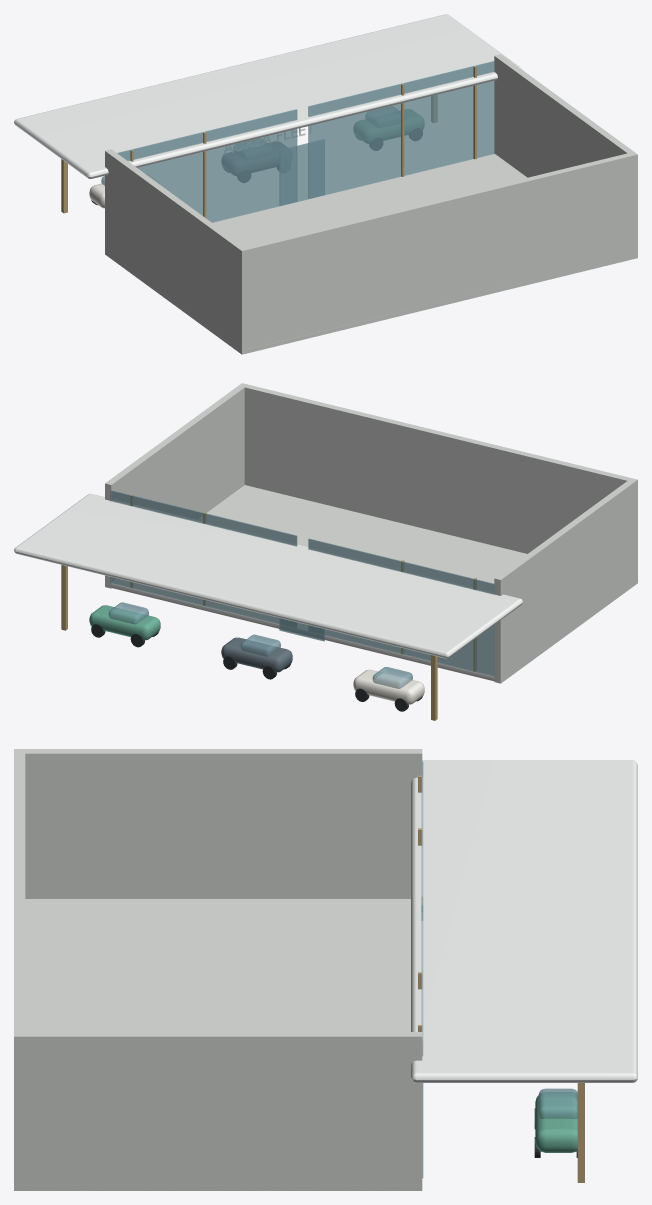
File: car-rental.glb
The picture shows the model from 3 angles, top to bottom: view 1: azimuth 30°, elevation 25°; view 2: azimuth 150°, elevation 25°; view 3: azimuth 270°, elevation 25°; orthographic projection. The views are drawn at different scales.
Parts seen in each view (by area): view 1: Solid rear structure, Angled rentable fleet canopy, Floor-to-ceiling showroom glass.001, Full-depth side wall, Floor-to-ceiling showroom glass, Ground slab, Full-depth side wall.001, Entrance framed glazing, Fleet fastback body.002, Fleet fastback body.001; view 2: Angled rentable fleet canopy, Solid rear structure, Ground slab, Full-depth side wall, Full-depth side wall.001, Floor-to-ceiling showroom glass, Floor-to-ceiling showroom glass.001, Fleet fastback body, Fleet fastback body.001, Fleet fastback body.002, Cabin glass, Cabin glass.001 (+2 smaller); view 3: Angled rentable fleet canopy, Full-depth side wall.001, Full-depth side wall, Ground slab, Solid rear structure, Fleet fastback body.002, Cabin glass.002, Canopy steel column.001, Floor-to-ceiling showroom glass.001.
Boxes of the visible parts, left/top/right/bottom form: Solid rear structure: left=238, top=152, right=637, bottom=354; Angled rentable fleet canopy: left=14, top=14, right=522, bottom=178; Floor-to-ceiling showroom glass.001: left=308, top=61, right=494, bottom=198; Full-depth side wall: left=105, top=149, right=248, bottom=353; Floor-to-ceiling showroom glass: left=117, top=109, right=297, bottom=222; Ground slab: left=117, top=154, right=564, bottom=352; Full-depth side wall.001: left=494, top=54, right=637, bottom=234; Entrance framed glazing: left=280, top=139, right=324, bottom=205; Fleet fastback body.002: left=354, top=109, right=423, bottom=143; Fleet fastback body.001: left=222, top=142, right=287, bottom=175; Angled rentable fleet canopy: left=14, top=493, right=522, bottom=658; Solid rear structure: left=239, top=383, right=637, bottom=579; Ground slab: left=106, top=485, right=526, bottom=681; Full-depth side wall: left=494, top=479, right=637, bottom=683; Full-depth side wall.001: left=105, top=383, right=247, bottom=588; Floor-to-ceiling showroom glass: left=308, top=538, right=494, bottom=676; Floor-to-ceiling showroom glass.001: left=110, top=490, right=297, bottom=628; Fleet fastback body: left=353, top=669, right=424, bottom=704; Fleet fastback body.001: left=221, top=637, right=292, bottom=672; Fleet fastback body.002: left=89, top=605, right=160, bottom=640; Cabin glass: left=372, top=667, right=412, bottom=688; Cabin glass.001: left=240, top=634, right=280, bottom=656; Angled rentable fleet canopy: left=411, top=760, right=637, bottom=1082; Full-depth side wall.001: left=14, top=1032, right=422, bottom=1190; Full-depth side wall: left=14, top=749, right=422, bottom=898; Ground slab: left=17, top=899, right=419, bottom=1188; Solid rear structure: left=14, top=749, right=25, bottom=1190; Fleet fastback body.002: left=535, top=1092, right=577, bottom=1152; Cabin glass.002: left=538, top=1088, right=577, bottom=1118; Canopy steel column.001: left=577, top=1083, right=584, bottom=1182; Floor-to-ceiling showroom glass.001: left=421, top=905, right=423, bottom=1178.
Bounding box in the file's own units: 33 × 7.5 × 27.5.
